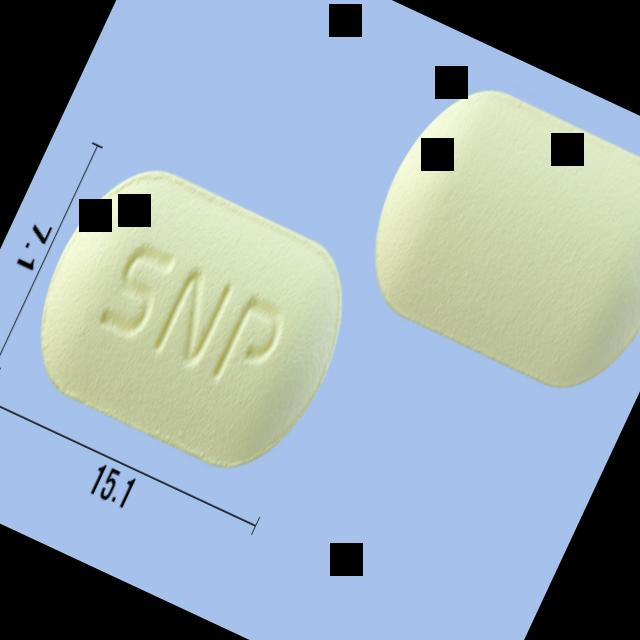A Progen Clarithromycin Tab: (8, 145, 378, 493)
